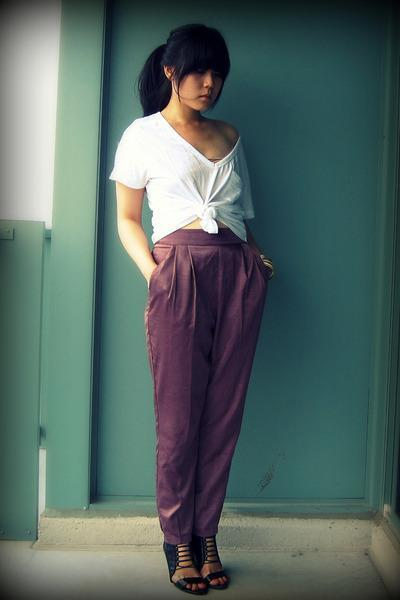pants: (140, 219, 271, 539)
shirt: (110, 112, 265, 242)
shoe: (163, 531, 234, 595)
